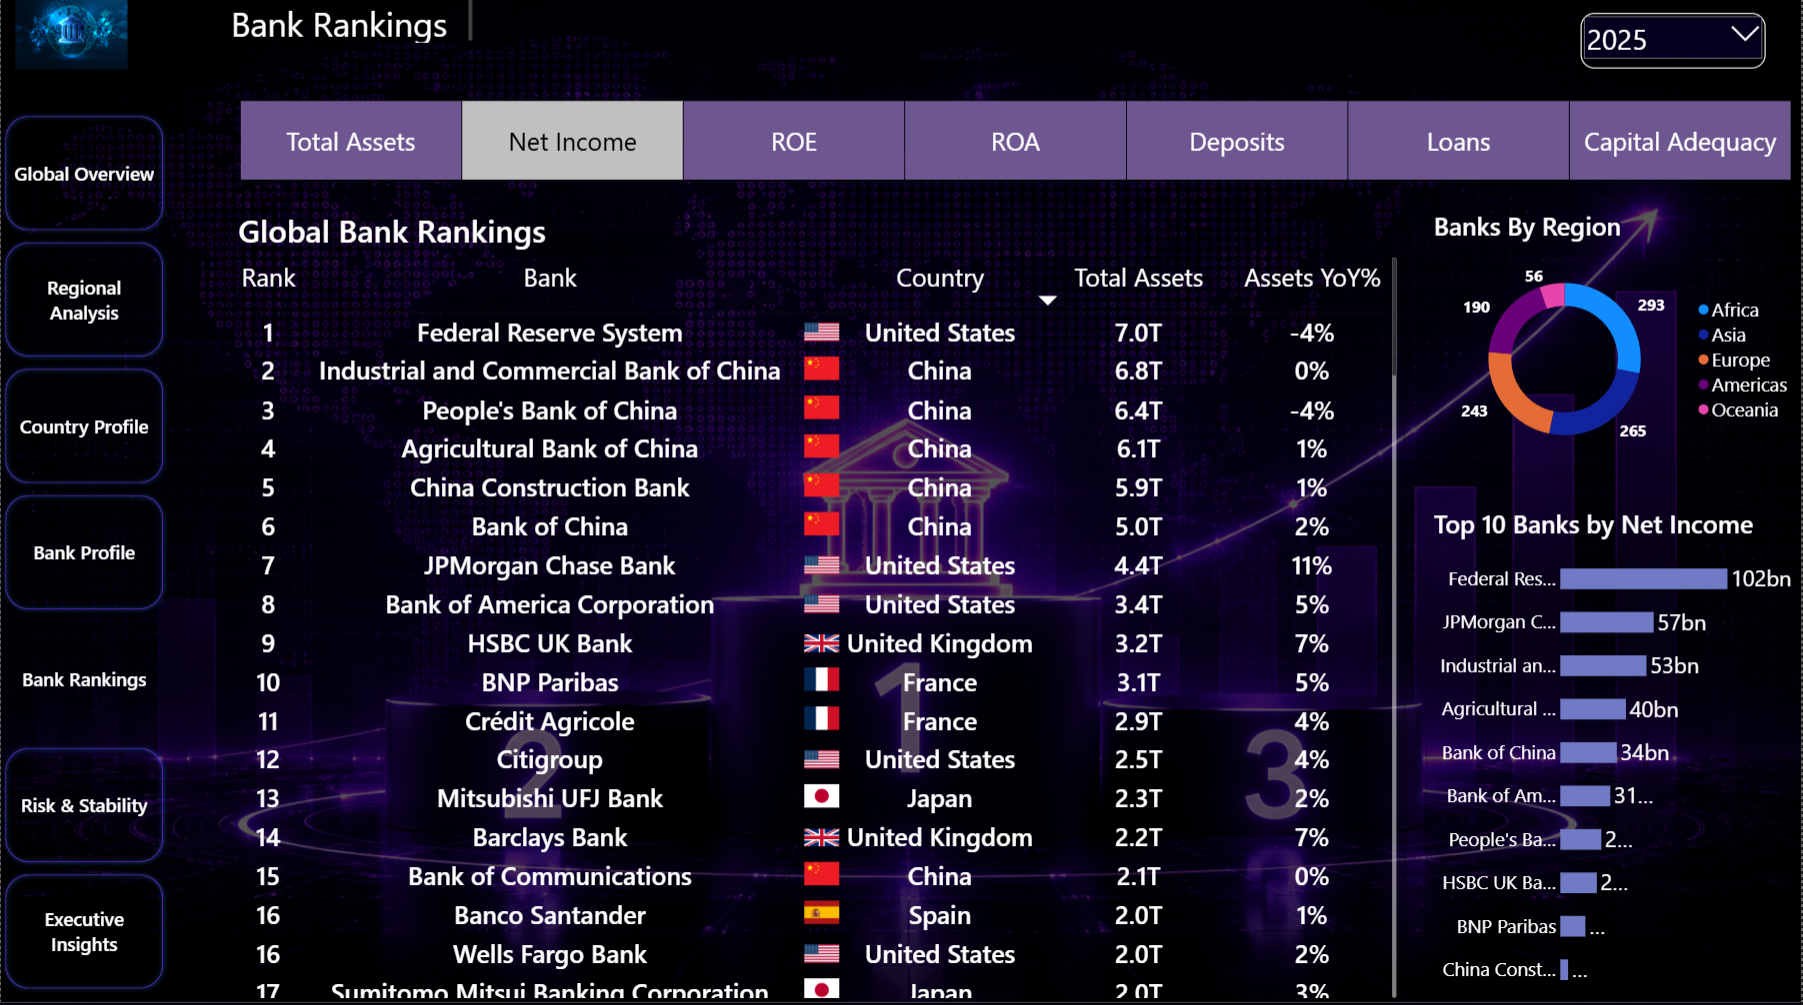

The dashboard page shown, as its layout file describes it:
{"tool":"powerbi","page":{"name":"Bank Rankings","canvas":[3840,2160],"ordinal":4},"visuals":[{"type":"tableEx","title":"Global Bank Rankings","fields":{"Values":["Bank_count.Bank Rank","DimBank.bank_name","DimBank.Flag URL","DimBank.country_name","Bank_count.Bank Total Assets","Bank_count.Total Assets YoY %"]},"box":[490.4,443,2506,1718.1],"z":1000},{"type":"slicer","fields":{"Values":["DimYear.Year"]},"box":[3371.2,39.9,395.1,119.6],"z":2000},{"type":"clusteredBarChart","fields":{"Category":["DimBank.bank_name"],"Y":["Bank_count.Selected Ranking Metric"]},"box":[3040.7,1079,797.4,1082.1],"z":3000},{"type":"slicer","fields":{"Values":["Ranking Metrics.Metric"]},"box":[489.4,224.7,3349.4,174],"z":4000},{"type":"donutChart","title":"Banks By Region","fields":{"Category":["public regions.region_name"],"Y":["Bank_count.Bank Count"]},"box":[3040.7,443,797.4,588.5],"z":5000},{"type":"textbox","box":[490.4,9.5,515.8,91.8],"z":6000},{"type":"pageNavigator","box":[0,250.1,355.2,1885],"z":6001},{"type":"image","box":[0,0,300.9,159.5],"z":6002}]}

Visuals, with their boxes in screenshot pixels (x1, y1, x2, y2), scaled from the page's 3840x2160 canvas onto the 1803x1005 screenshot:
"Global Bank Rankings" tableEx: l=230, t=206, r=1407, b=1004
slicer - DimYear.Year: l=1583, t=19, r=1768, b=74
clusteredBarChart - DimBank.bank_name x Bank_count.Selected Ranking Metric: l=1428, t=502, r=1802, b=1004
slicer - Ranking Metrics.Metric: l=230, t=105, r=1802, b=186
"Banks By Region" donutChart: l=1428, t=206, r=1802, b=480
textbox: l=230, t=4, r=472, b=47
pageNavigator: l=0, t=116, r=167, b=993
image: l=0, t=0, r=141, b=74
